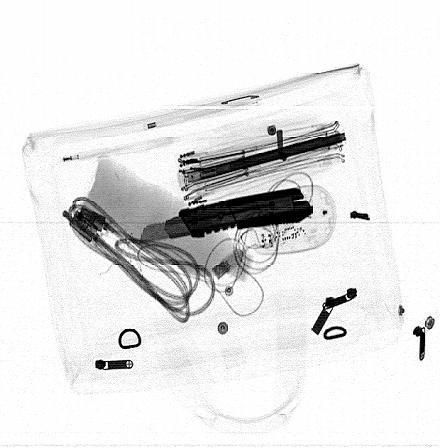Knife: (139, 187, 314, 243)
